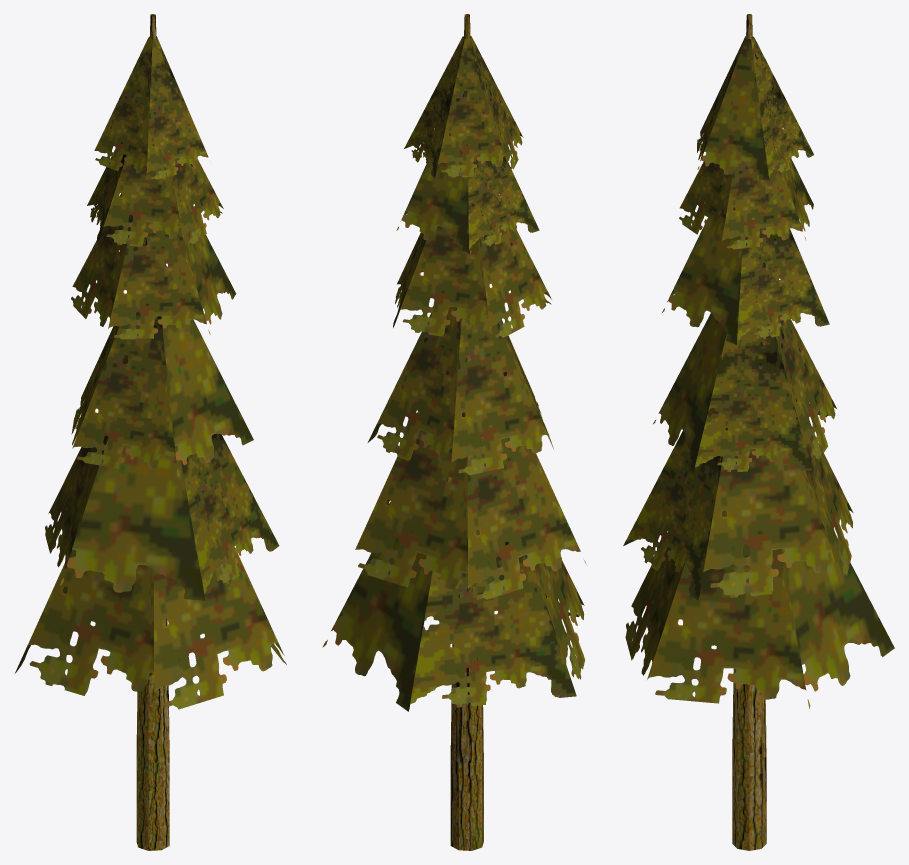
File: Tree_1.fbx
The picture shows the model from 3 angles, left to right: view 1: azimuth 30°, elevation 25°; view 2: azimuth 150°, elevation 25°; view 3: azimuth 270°, elevation 25°; orthographic projection.
Visible parts, largest first — view 1: Cylinder; view 2: Cylinder; view 3: Cylinder.
Part boxes in pixels (x1,y1,x2,y2): Cylinder: (15,14,286,850); Cylinder: (322,14,586,850); Cylinder: (623,14,894,850).
Size of the model in its own units: 427 by 1409 by 421.
Materials: 13 (13 with a texture image).
